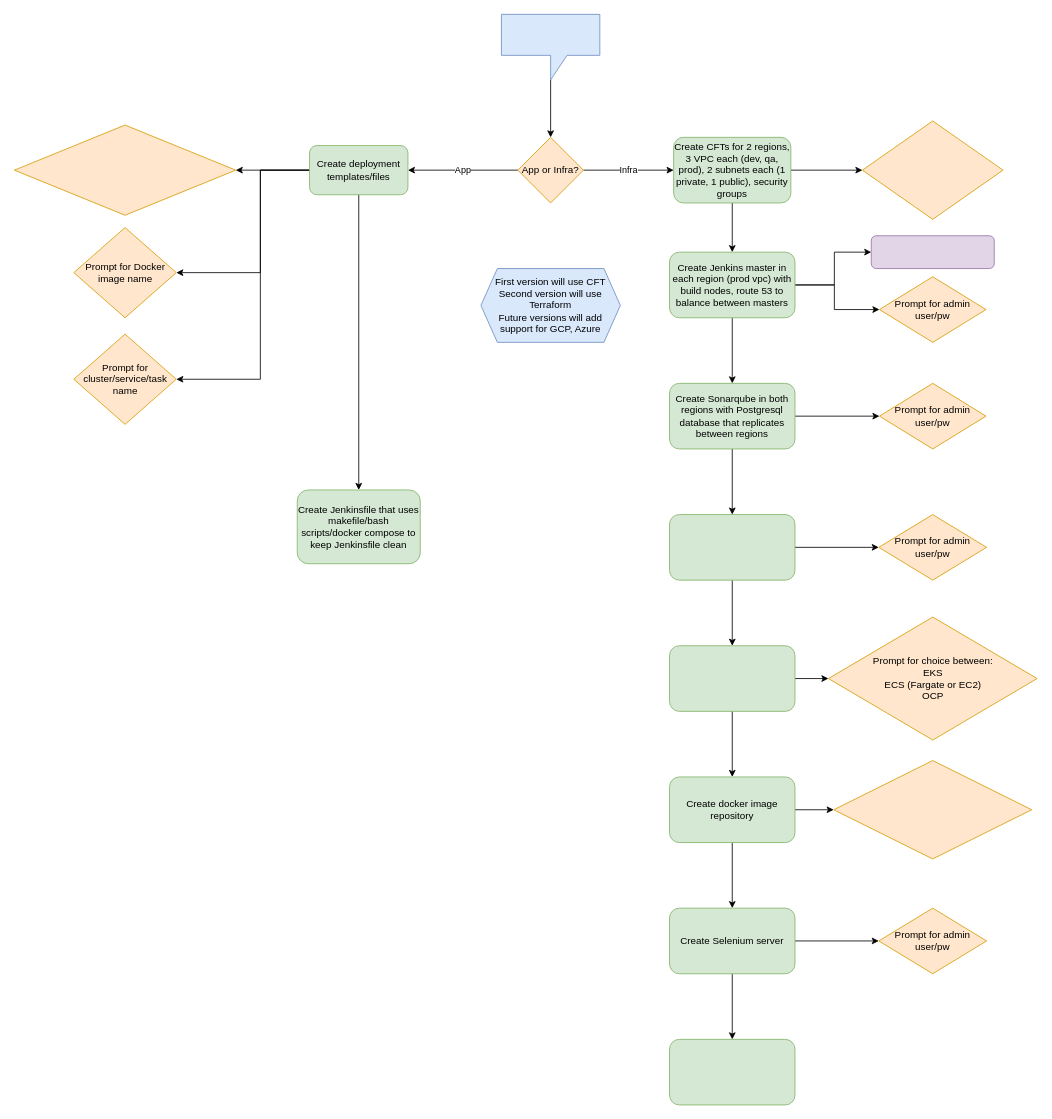
This 1052x1119 diagram has some shape labels left out. Each missing label, with the centre of its shape:
"Create Anchore in both regions" goes at (x=732, y=547).
"Create bash script and/or makefile to run the templates and create env" goes at (x=732, y=1072).
"Create container management platform in both regions" goes at (x=732, y=678).
"Need a way to sync data between regions" goes at (x=932, y=252).
"Prompt for choice between: EKS ECS OCP" goes at (x=125, y=169).
"Prompt for choice between: Nexus ECR" goes at (x=932, y=809).
"Prompt user for names for VPCs (will be a prefix)" goes at (x=932, y=169).
"skyhook init" goes at (x=550, y=47).
